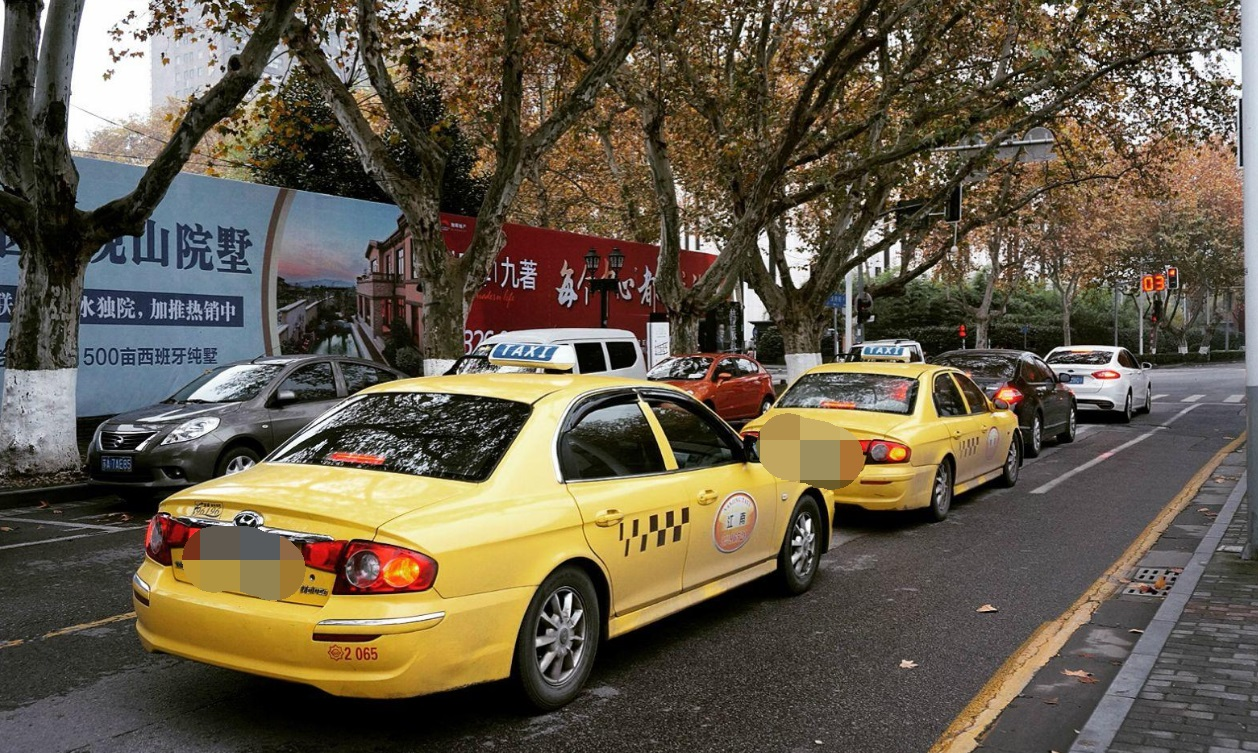taxi: (131, 339, 845, 713)
